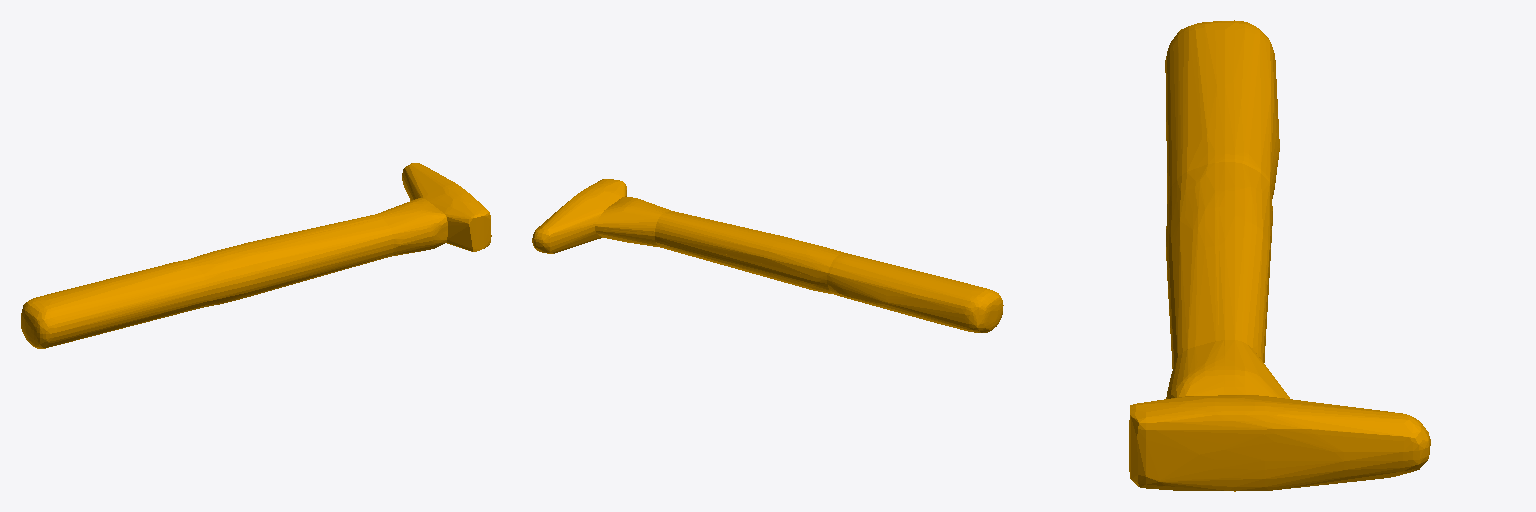
The robot description file, URDF, robot "model.urdf":
<?xml version="1.0" ?>
        <robot name="model.urdf">
        <link name="baseLink">
            <contact>
                <lateral_friction value="0.8"/>
                <rolling_friction value="0.001"/>
                <contact_cfm value="0.0"/>
                <contact_erp value="1.0"/>
            </contact>
            <inertial>
                <origin xyz="0.07 0.0 0.0" rpy="0 0 0"/>
                <mass value="0.253"/>
                <inertia ixx="0.001" ixy="0" ixz="0" iyy="0.001" iyz="0" izz="0.001"/>
            </inertial>
            <visual>
            <geometry>
                <mesh filename="hammer_2.obj" scale="1 1 1"/>
            </geometry>
            <!-- The following material makes the object white in Isaac Gym, so we comment it out.
            <material name="white"> <color rgba="1. 1. 1. 1."/> </material>
            -->
            </visual>
            <collision>
            <geometry>
                <mesh filename="decomp_0.obj" scale="1 1 1"/>
            </geometry>
            </collision>
            <collision>
            <geometry>
                <mesh filename="decomp_1.obj" scale="1 1 1"/>
            </geometry>
            </collision>
            <collision>
            <geometry>
                <mesh filename="decomp_2.obj" scale="1 1 1"/>
            </geometry>
            </collision>
            <collision>
            <geometry>
                <mesh filename="decomp_3.obj" scale="1 1 1"/>
            </geometry>
            </collision>
            <collision>
            <geometry>
                <mesh filename="decomp_4.obj" scale="1 1 1"/>
            </geometry>
            </collision>
            <collision>
            <geometry>
                <mesh filename="decomp_5.obj" scale="1 1 1"/>
            </geometry>
            </collision>
            <collision>
            <geometry>
                <mesh filename="decomp_6.obj" scale="1 1 1"/>
            </geometry>
            </collision>
            <collision>
            <geometry>
                <mesh filename="decomp_7.obj" scale="1 1 1"/>
            </geometry>
            </collision>
            <collision>
            <geometry>
                <mesh filename="decomp_8.obj" scale="1 1 1"/>
            </geometry>
            </collision>
            <collision>
            <geometry>
                <mesh filename="decomp_9.obj" scale="1 1 1"/>
            </geometry>
            </collision>
        </link>
        </robot>

--- Facts derived from the render (not from the file) ---
3 views of the same robot in one strip: view 1: azimuth 30°, elevation 25°; view 2: azimuth 150°, elevation 25°; view 3: azimuth 270°, elevation 25° (orthographic).
Model model.urdf with 1 links and 0 joints (none), rooted at baseLink, posed all joints at 0.
Visible links, largest first — view 1: baseLink; view 2: baseLink; view 3: baseLink.
Boxes of the visible links, x1,y1,x2,y2 form: baseLink: [21, 163, 491, 348]; baseLink: [532, 179, 1003, 332]; baseLink: [1129, 20, 1430, 491].
Bounding box of the posed robot: 0.2729 × 0.0822 × 0.0287 m (x, y, z).
Meshes: 1 distinct files referenced, 1 mesh visuals loaded (1 OBJ).
